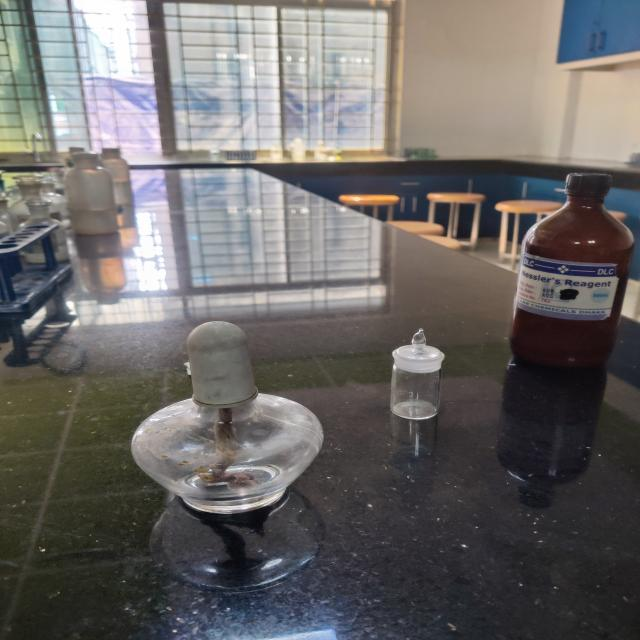Nessler_Reagent_Bottle: (480, 152, 640, 378)
Spirit_Lamp: (100, 306, 342, 551)
Weighing_Bottle: (369, 306, 468, 441)
